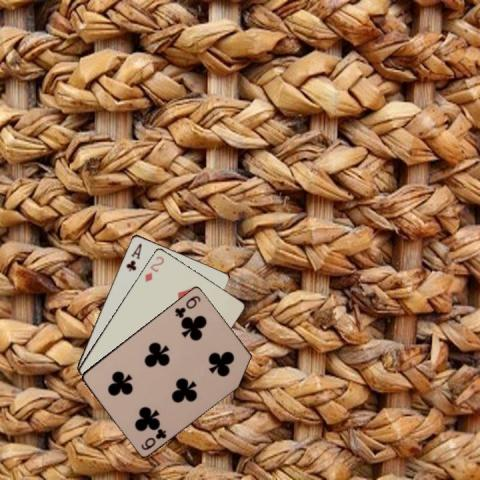2d: (142, 253, 165, 283)
6c: (171, 292, 202, 318), (138, 426, 168, 452)
Ac: (123, 240, 142, 273)
